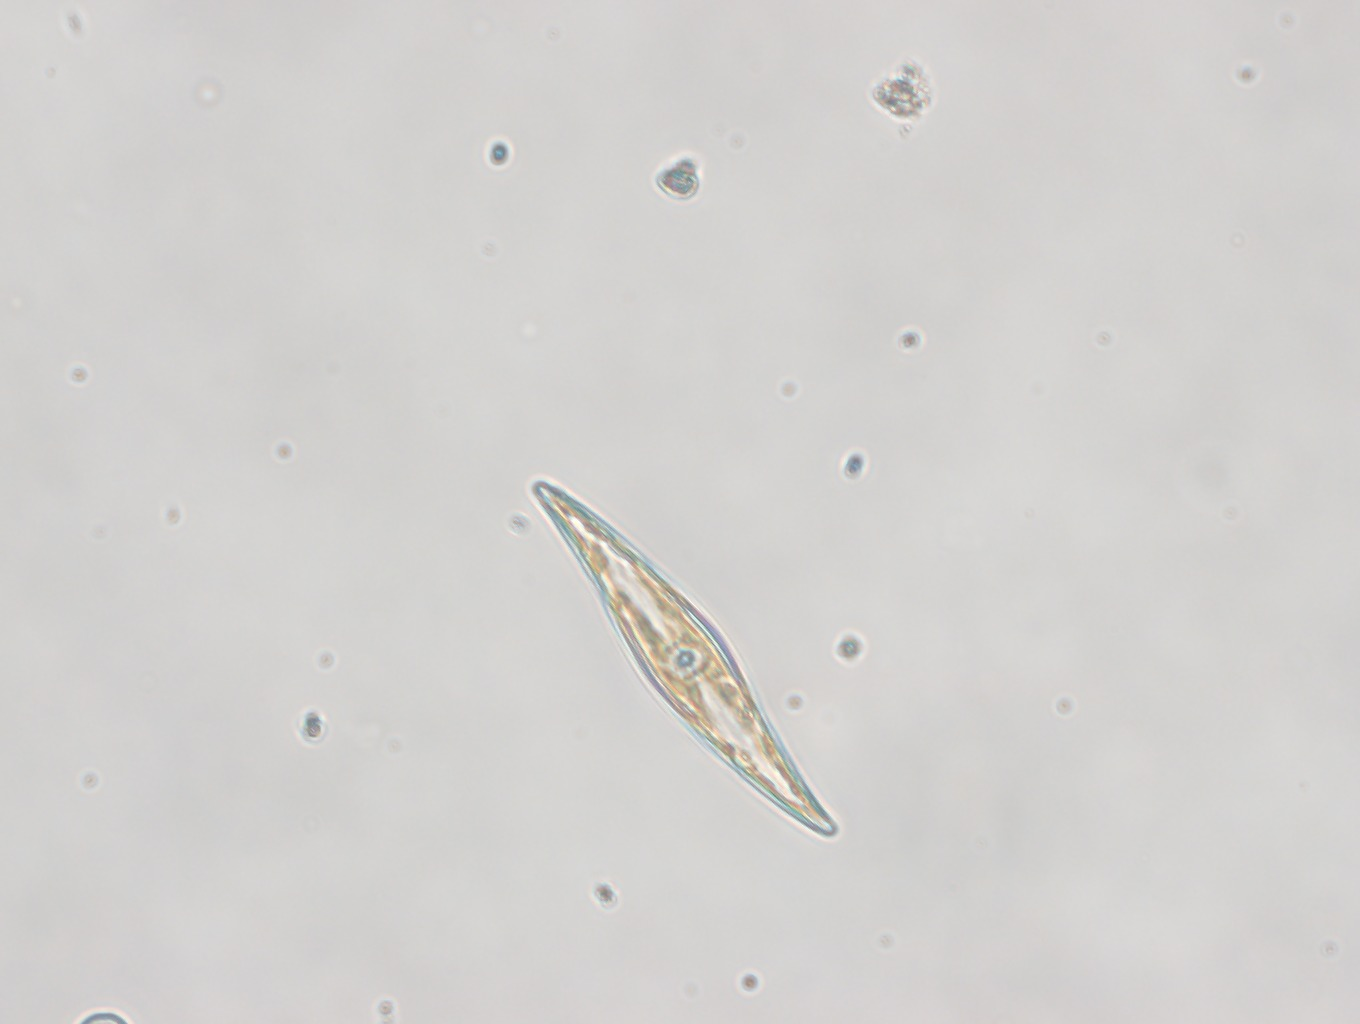pleurosigma pelagicum: (522, 473, 848, 843)
